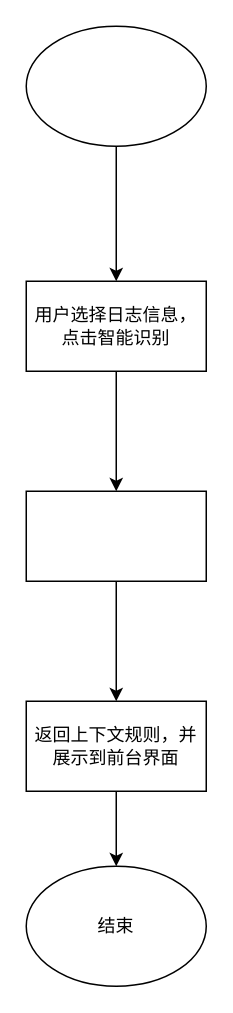
Image size: 233x1013. Some labels were removed from this diagram. The centre of each missing label's shape, as x and y in pixels:
开始: the point at 115,85
获取请求数据中的日志信息，经过合并分析处理: the point at 115,535
